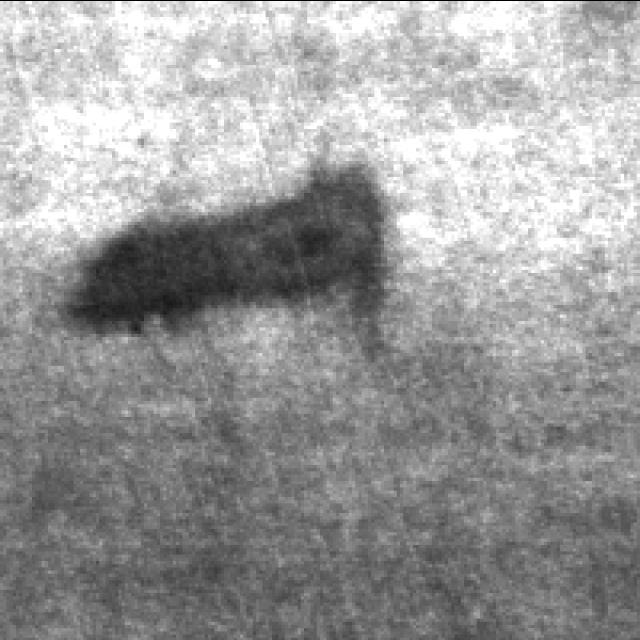patches: (38, 154, 416, 362)
